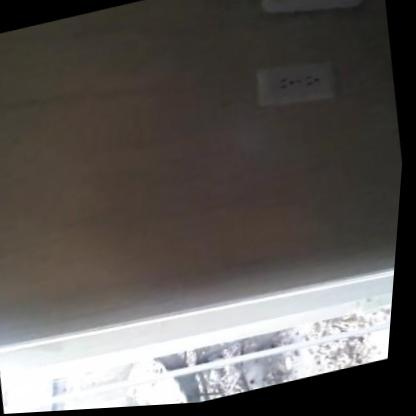OUTLET: (248, 49, 342, 117)
